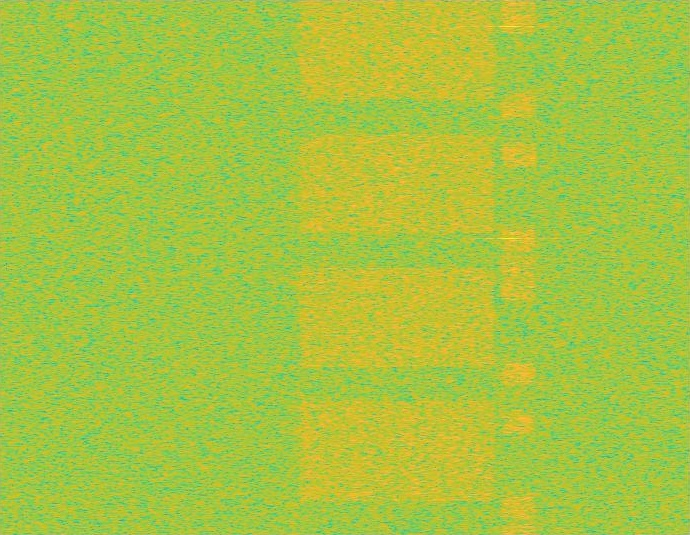5G: (293, 0, 500, 534)
LTE: (502, 0, 536, 534)
Radar: (503, 0, 517, 534)
